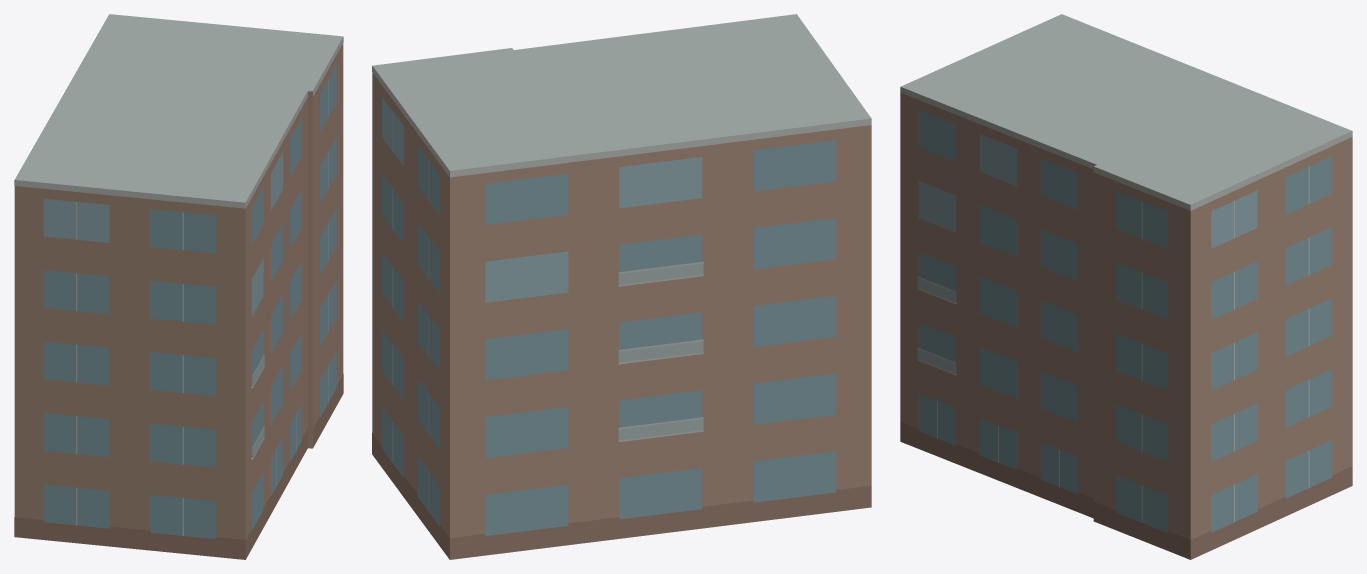
Rendered from survey-upis-32749485.glb.
3 views of the same model, side by side, from view 1: azimuth 30°, elevation 25°; view 2: azimuth 150°, elevation 25°; view 3: azimuth 270°, elevation 25° (orthographic). The views are drawn at different scales.
Parts seen in each view (by area): view 1: survey-upis-32749485.tmp; view 2: survey-upis-32749485.tmp; view 3: survey-upis-32749485.tmp.
Part boxes in pixels (x1=…): survey-upis-32749485.tmp: x1=14, y1=14, x2=343, y2=559; survey-upis-32749485.tmp: x1=372, y1=14, x2=871, y2=559; survey-upis-32749485.tmp: x1=900, y1=14, x2=1352, y2=559.
Size of the model in its own units: 16.97 by 14.7 by 16.98.
